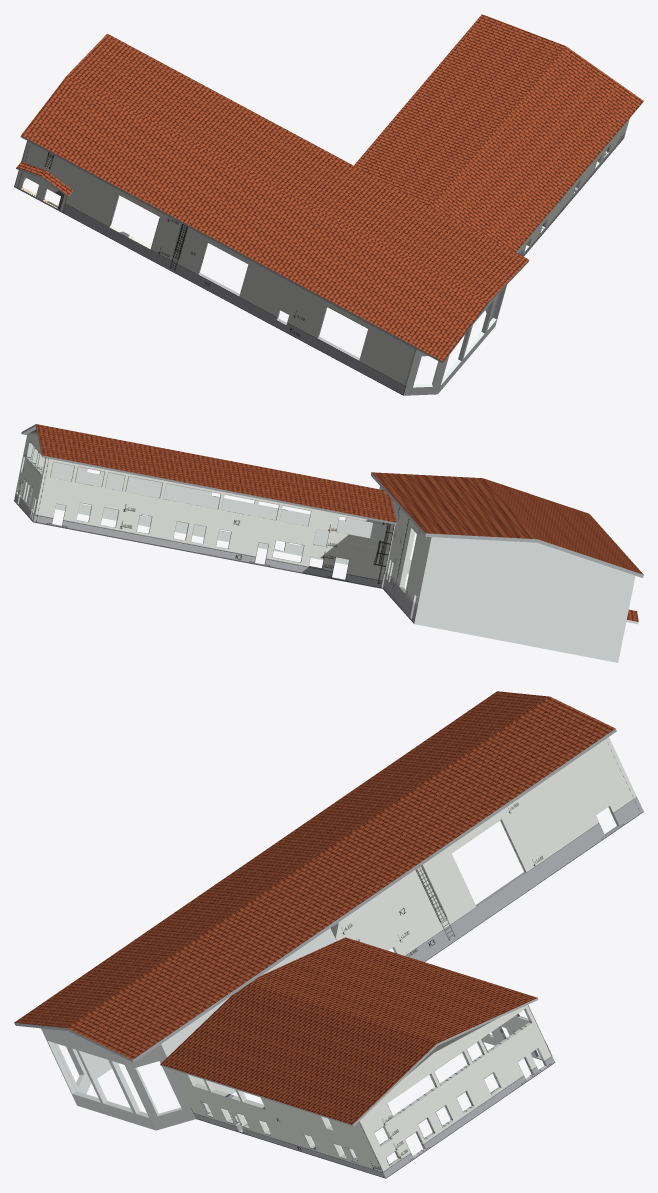
Rendered from Коровник_Cow_Barn_Model.glb.
3 renders of one model, top to bottom at view 1: azimuth 30°, elevation 25°; view 2: azimuth 150°, elevation 25°; view 3: azimuth 270°, elevation 25°, orthographic. The views are drawn at different scales.
Visible parts, largest first — view 1: GeometryNode_75, GeometryNode_28, GeometryNode_52, GeometryNode_4, GeometryNode_87; view 2: GeometryNode_52, GeometryNode_75, GeometryNode_40, GeometryNode_16, GeometryNode_87, GeometryNode_63; view 3: GeometryNode_75, GeometryNode_16, GeometryNode_63, GeometryNode_52, GeometryNode_4, GeometryNode_87.
Part boxes in pixels (x1=…): GeometryNode_75: x1=16, y1=14, x2=643, y2=361; GeometryNode_28: x1=14, y1=141, x2=416, y2=395; GeometryNode_52: x1=24, y1=177, x2=507, y2=395; GeometryNode_4: x1=516, y1=119, x2=629, y2=256; GeometryNode_87: x1=20, y1=102, x2=642, y2=363; GeometryNode_52: x1=31, y1=446, x2=638, y2=662; GeometryNode_75: x1=36, y1=424, x2=643, y2=621; GeometryNode_40: x1=33, y1=458, x2=395, y2=588; GeometryNode_16: x1=383, y1=507, x2=431, y2=623; GeometryNode_87: x1=21, y1=424, x2=643, y2=577; GeometryNode_63: x1=14, y1=429, x2=45, y2=521; GeometryNode_75: x1=14, y1=691, x2=615, y2=1124; GeometryNode_16: x1=330, y1=737, x2=643, y2=962; GeometryNode_63: x1=359, y1=1005, x2=555, y2=1178; GeometryNode_52: x1=41, y1=928, x2=541, y2=1130; GeometryNode_4: x1=173, y1=1070, x2=385, y2=1178; GeometryNode_87: x1=14, y1=728, x2=616, y2=1126.
Bounding box in the file's own units: 80274 × 31965 × 60391.
Materials: 8 (7 with a texture image).
